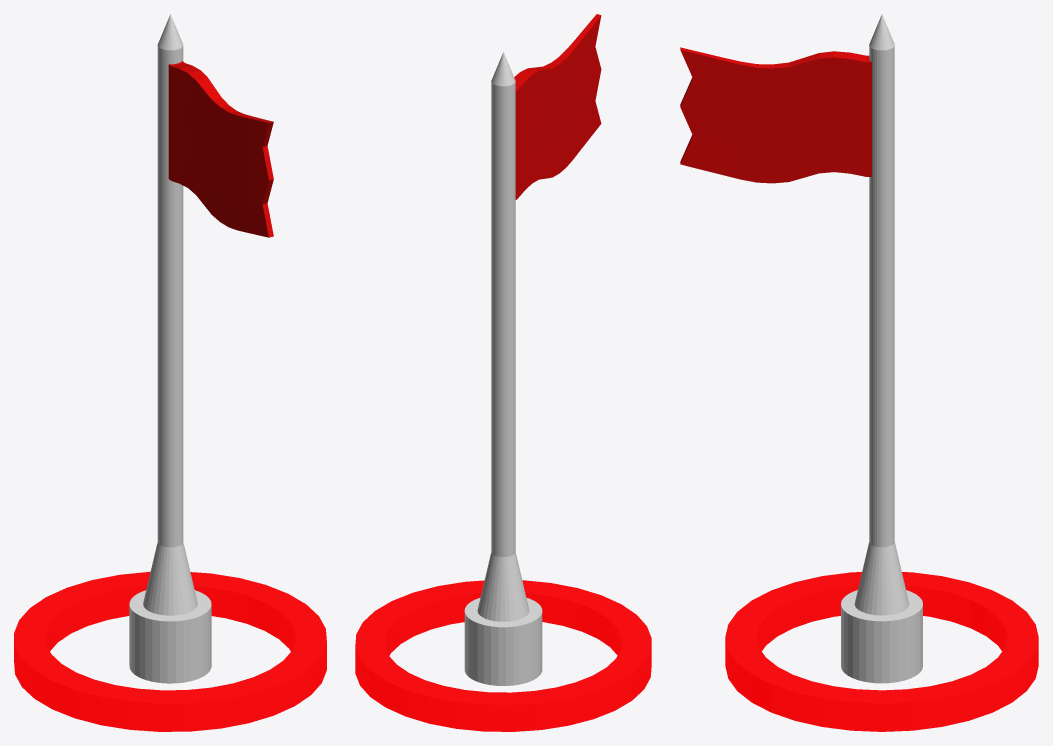
Rendered from flag.fbx.
3 renders of one model, left to right at view 1: azimuth 30°, elevation 25°; view 2: azimuth 150°, elevation 25°; view 3: azimuth 270°, elevation 25°, orthographic. The views are drawn at different scales.
Visible parts, largest first — view 1: flag; view 2: flag; view 3: flag.
Boxes of the visible parts, x1,y1,x2,y2 form: flag: [14, 14, 326, 731]; flag: [355, 14, 651, 731]; flag: [680, 14, 1038, 731].
Bounding box in the file's own units: 59.47 × 136 × 68.01.
